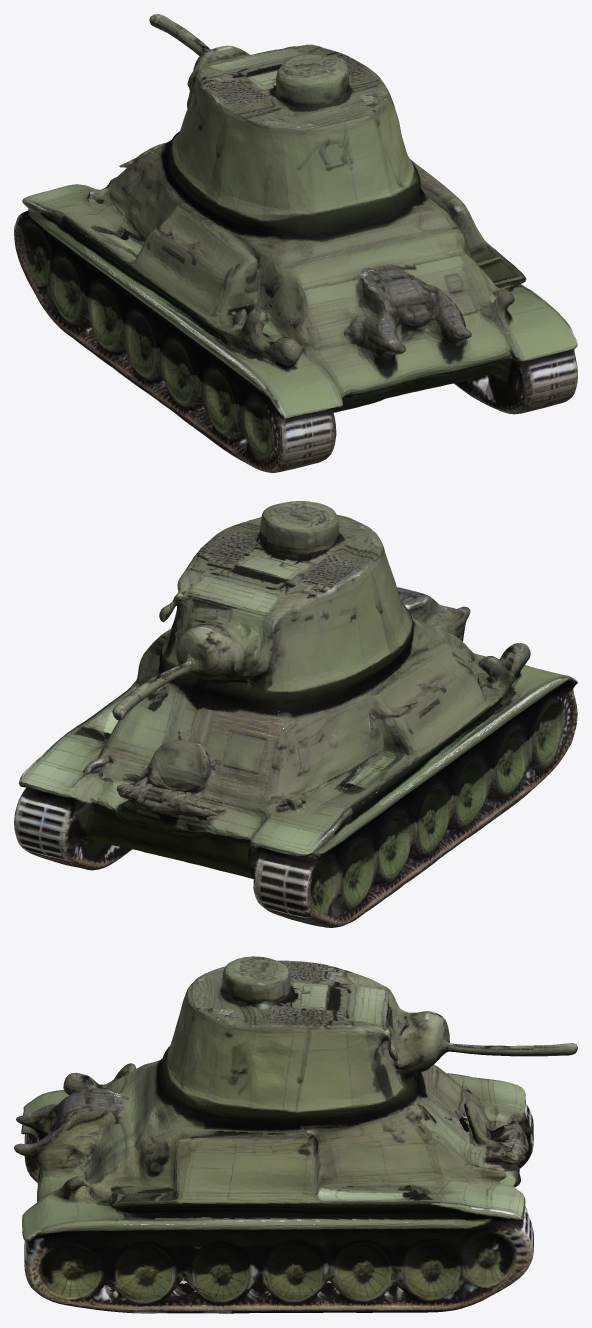
File: textured_syncmvd.glb
The picture shows the model from 3 angles, top to bottom: view 1: azimuth 30°, elevation 25°; view 2: azimuth 150°, elevation 25°; view 3: azimuth 270°, elevation 25°; orthographic projection. The views are drawn at different scales.
Parts seen in each view (by area): view 1: Node; view 2: Node; view 3: Node.
Boxes of the visible parts, <box> form: Node: <box>14,14,577,472</box>; Node: <box>14,501,577,927</box>; Node: <box>14,956,577,1313</box>.
Bounding box in the file's own units: 1.15 × 1.11 × 2.
1 material, 1 textured.
